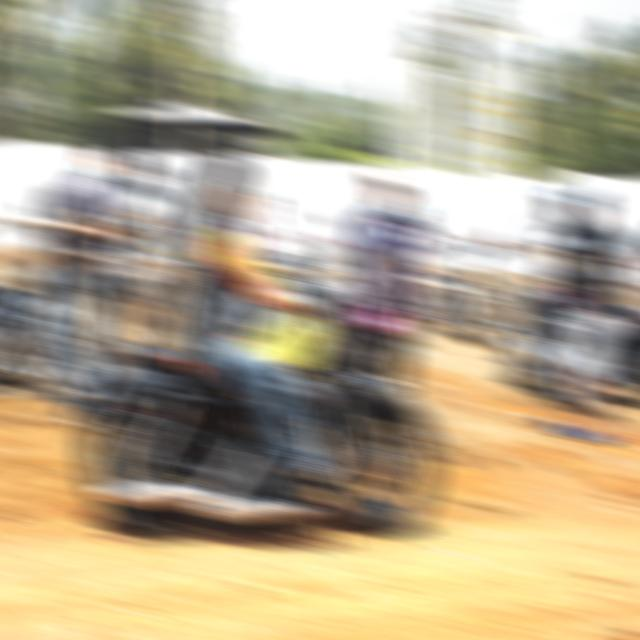Without Helmet: (185, 120, 264, 245)
